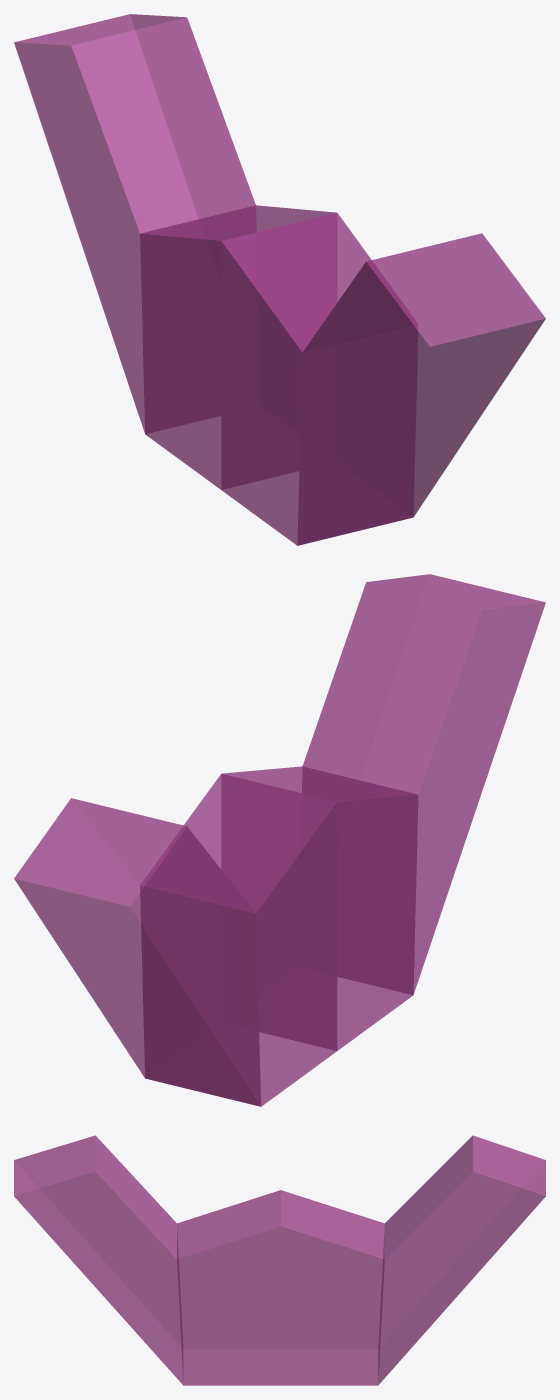
Rendered from SM_Bld_Roof_Trim_Cap_04_Collision_01.fbx.
3 renders of one model, top to bottom at view 1: azimuth 30°, elevation 25°; view 2: azimuth 150°, elevation 25°; view 3: azimuth 270°, elevation 25°, orthographic. The views are drawn at different scales.
Visible parts, largest first — view 1: SM_Bld_Roof_Trim_Cap_04_Collision_01; view 2: SM_Bld_Roof_Trim_Cap_04_Collision_01; view 3: SM_Bld_Roof_Trim_Cap_04_Collision_01.
Boxes of the visible parts, x1,y1,x2,y2 form: SM_Bld_Roof_Trim_Cap_04_Collision_01: (14, 14, 545, 545); SM_Bld_Roof_Trim_Cap_04_Collision_01: (14, 574, 545, 1106); SM_Bld_Roof_Trim_Cap_04_Collision_01: (14, 1135, 545, 1385).
Bounding box in the file's own units: 24.95 × 68.79 × 155.
